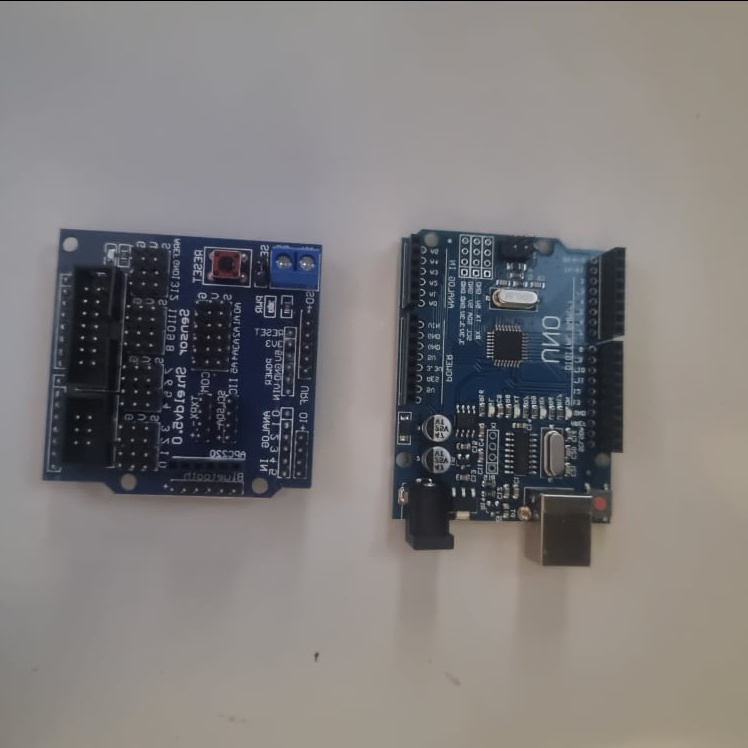5V EXPANSION: (39, 224, 326, 500)
UNO R3: (399, 221, 628, 566)
